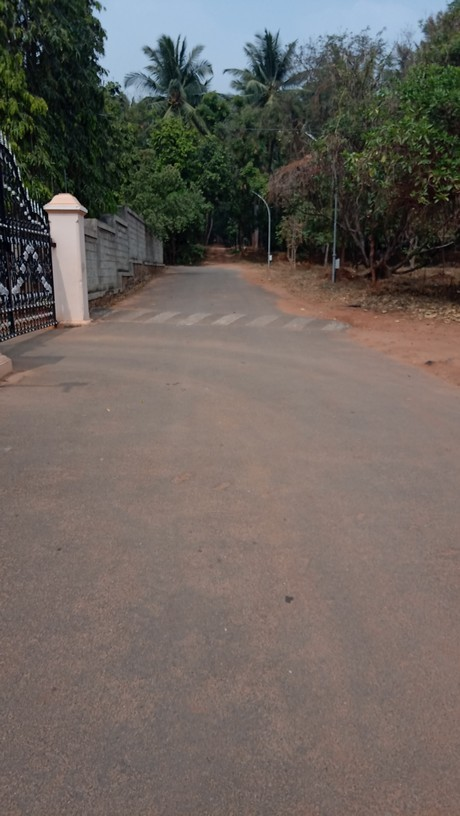bump: (97, 299, 353, 334)
